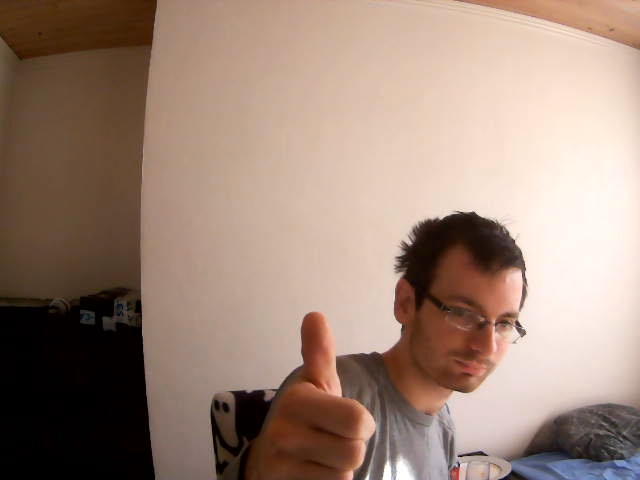nice: (243, 310, 377, 480)
